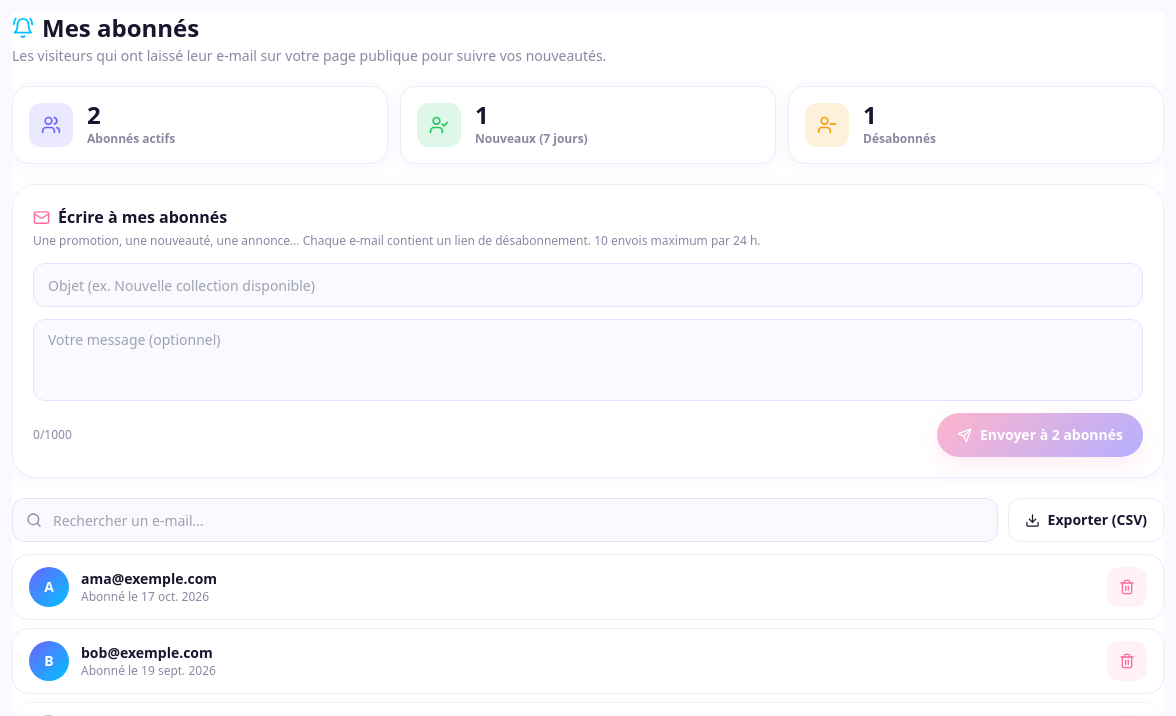
Test: Subscribers (tableau de bord) › filtre par e-mail
Expected: the text "ama@exemple.com" is shown, [81, 569, 217, 588]
In the search field named "Rechercher un abonné": (505, 520) [12, 498, 998, 542], type "bob"
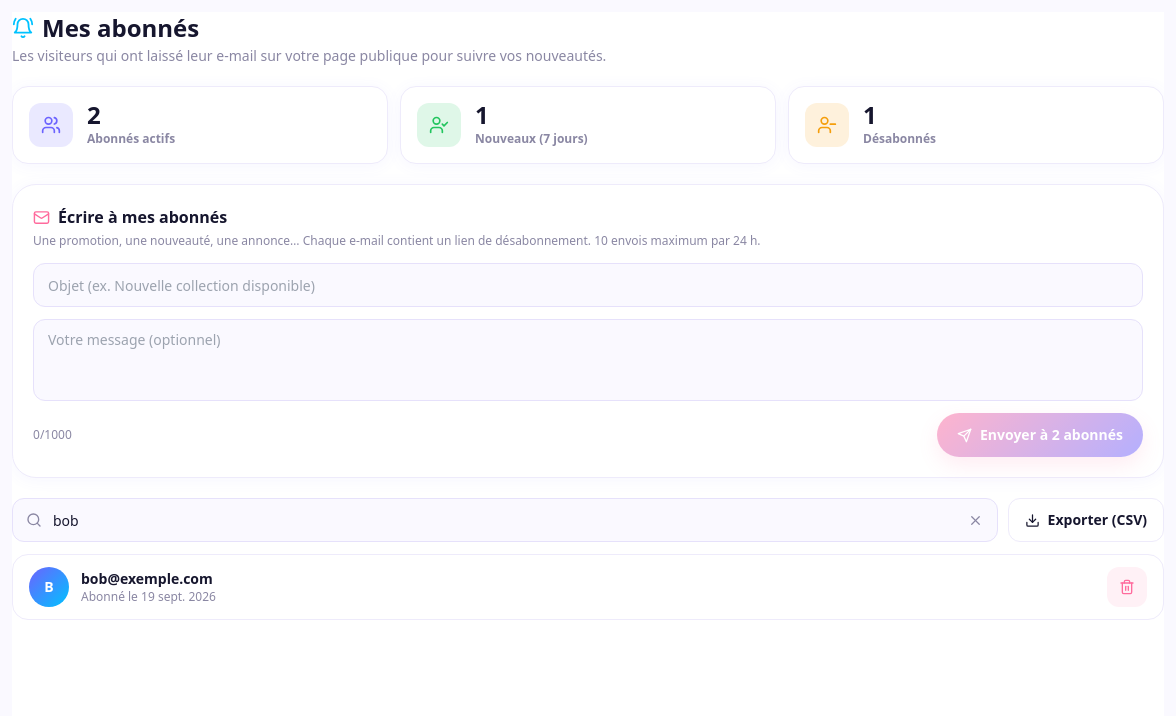
Expected: the text "bob@exemple.com" is shown, [81, 569, 213, 588]
Now the text "ama@exemple.com" is gone
Replace the text in the search field named "Rechercher un abonné" with "zzz": (505, 520) [12, 498, 998, 542]
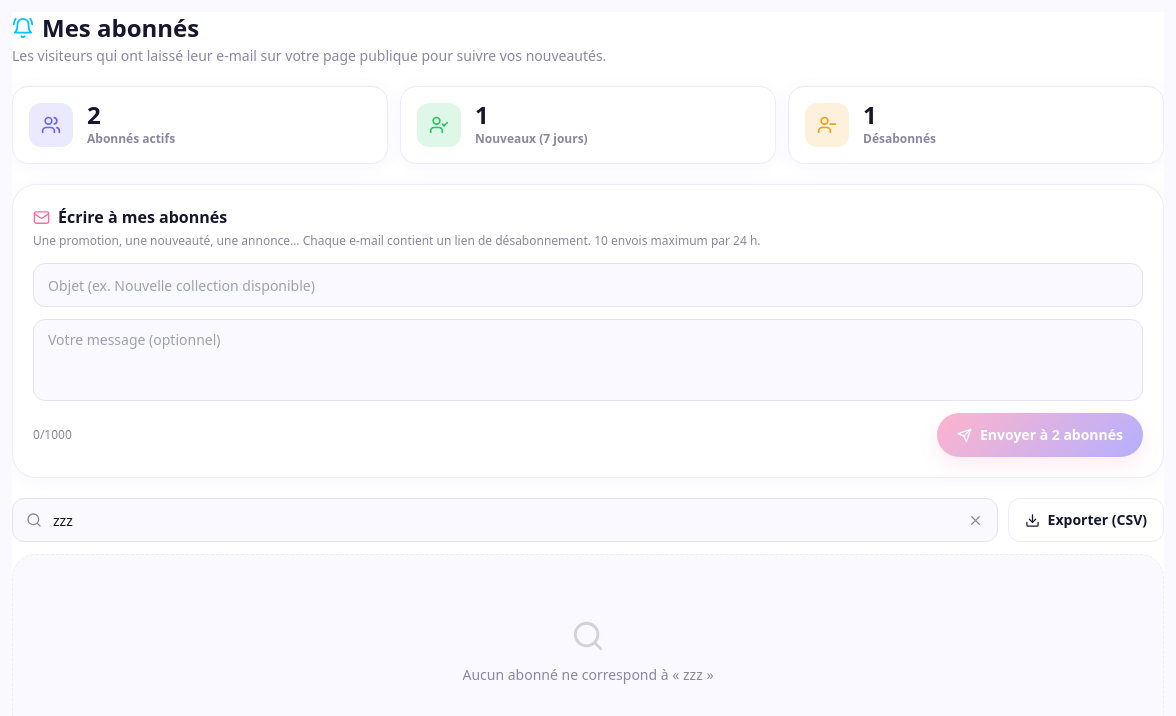
Now the text "Aucun abonné ne correspond à « zzz »" is shown, box [462, 665, 714, 684]
